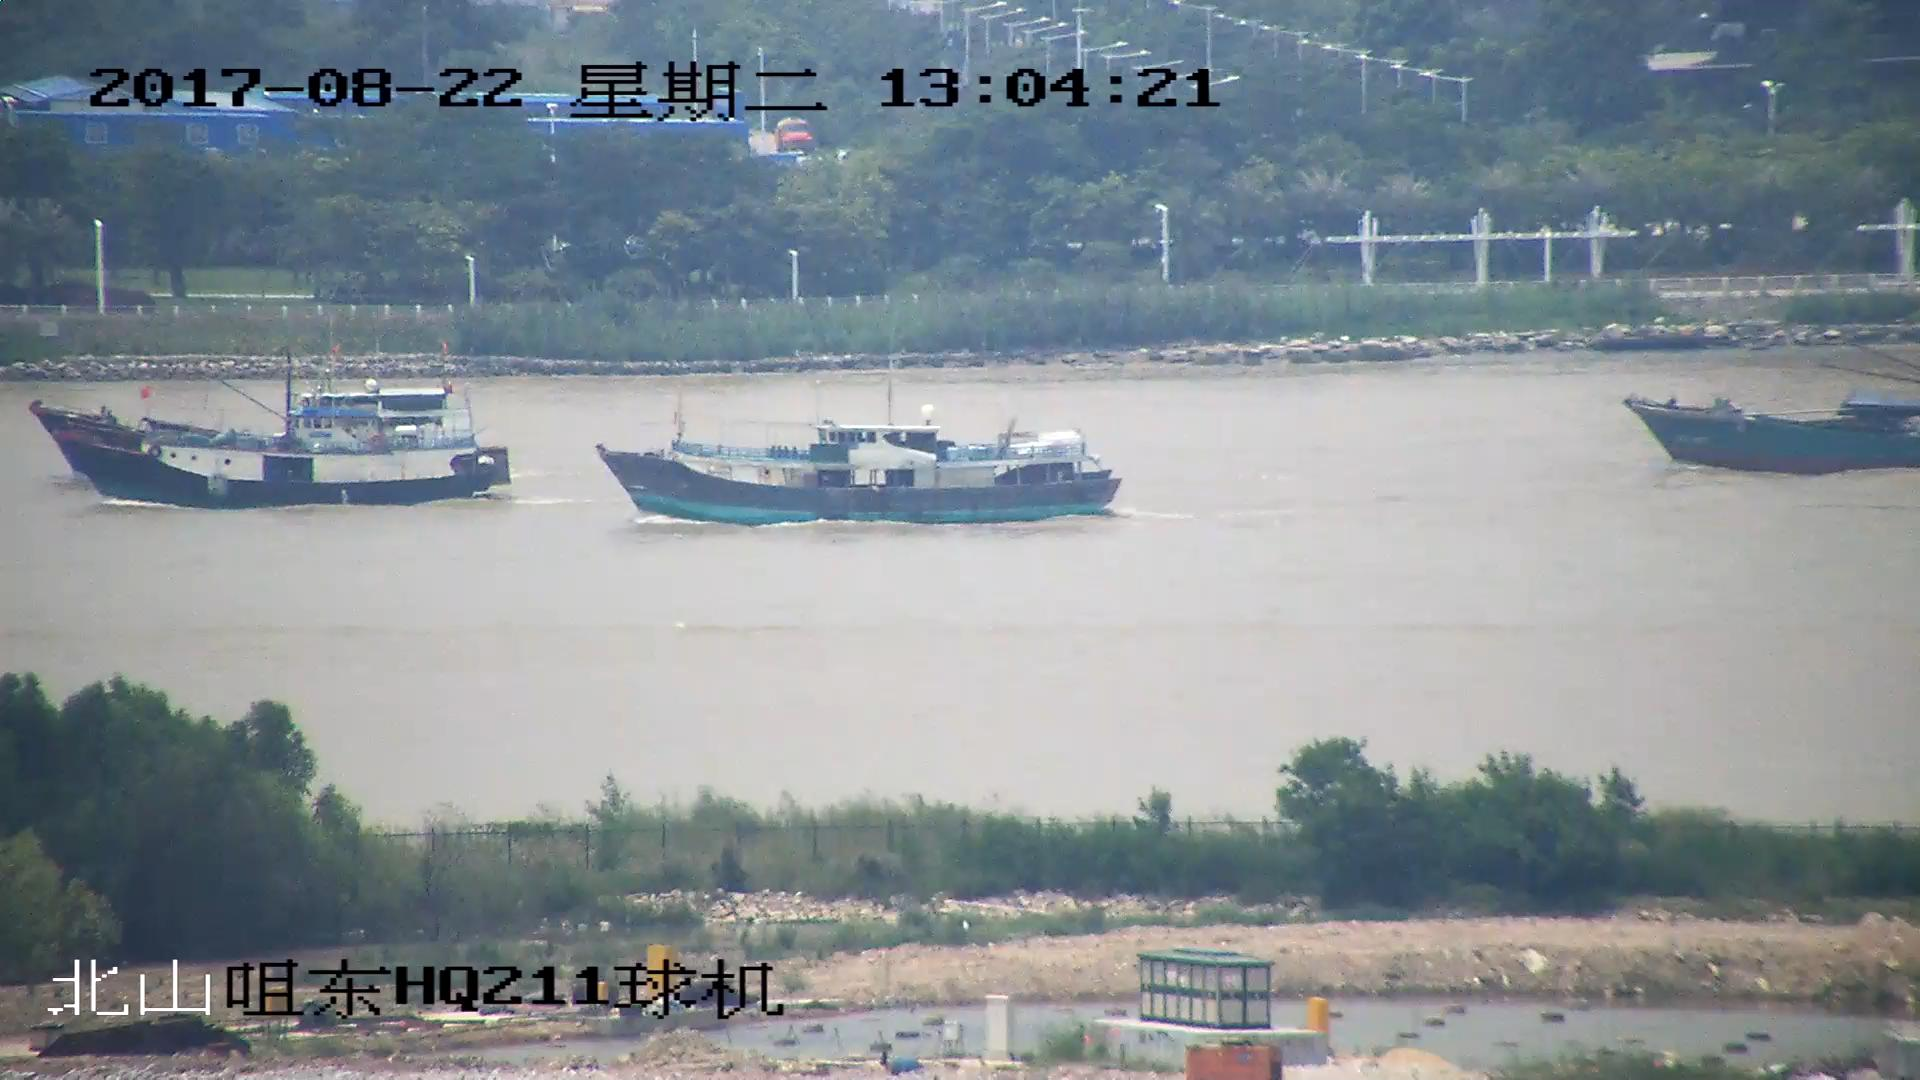fishing boat: (597, 410, 1116, 525), (31, 373, 461, 482), (63, 395, 512, 499), (1625, 373, 1920, 475)
